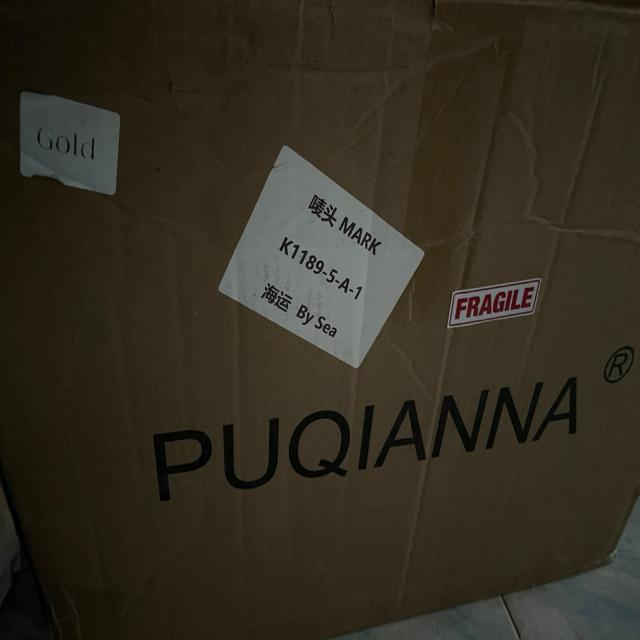carton_box: (1, 0, 640, 640)
export_mark_label: (227, 140, 412, 374)
fragile_label: (445, 270, 557, 337)
